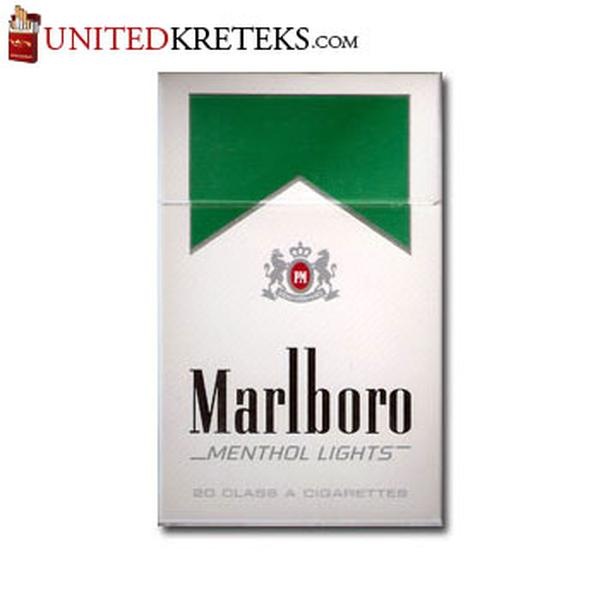marlboro_mentol: (160, 74, 443, 531)
